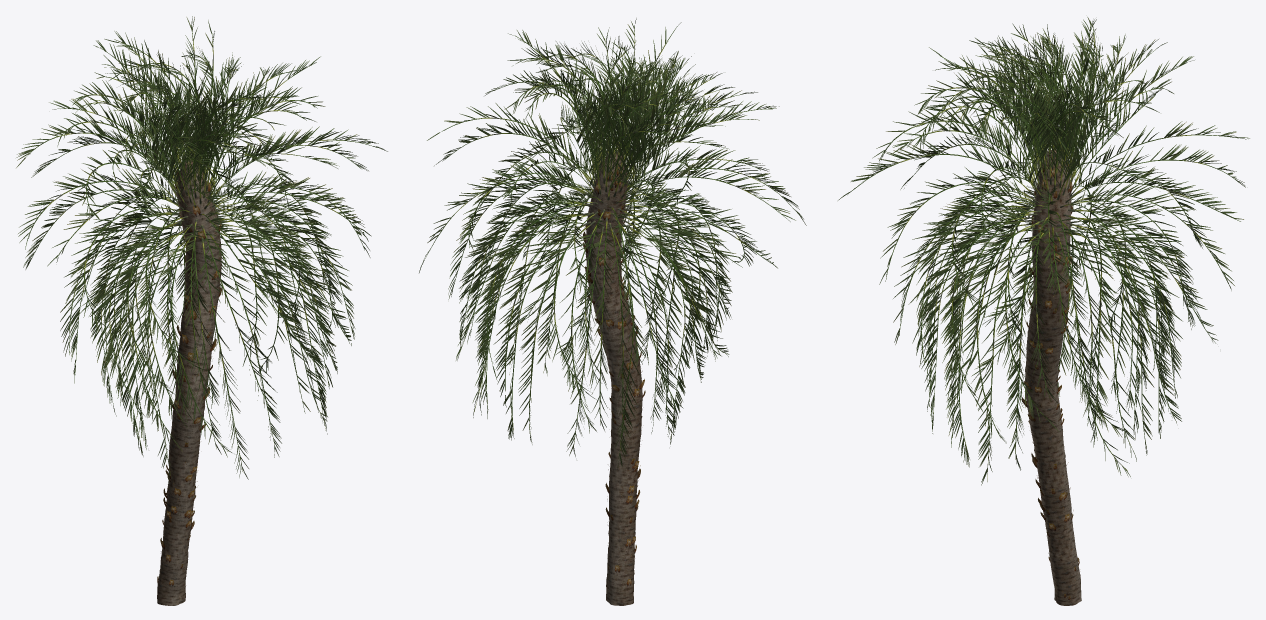
The model's file is macrozamia_moorei_palm_tall.gltf.
3 renders of one model, left to right at view 1: azimuth 30°, elevation 25°; view 2: azimuth 150°, elevation 25°; view 3: azimuth 270°, elevation 25°, orthographic. The views are drawn at different scales.
Parts seen in each view (by area): view 1: Macrozamia_Moorei_Palm_Tall; view 2: Macrozamia_Moorei_Palm_Tall; view 3: Macrozamia_Moorei_Palm_Tall.
Part boxes in pixels (x1,y1,x2,y2): Macrozamia_Moorei_Palm_Tall: (16,16,387,605); Macrozamia_Moorei_Palm_Tall: (419,18,806,605); Macrozamia_Moorei_Palm_Tall: (838,17,1249,605).
Size of the model in its own units: 2.33 by 3.6 by 2.37.
Materials: 5 (5 with a texture image).
